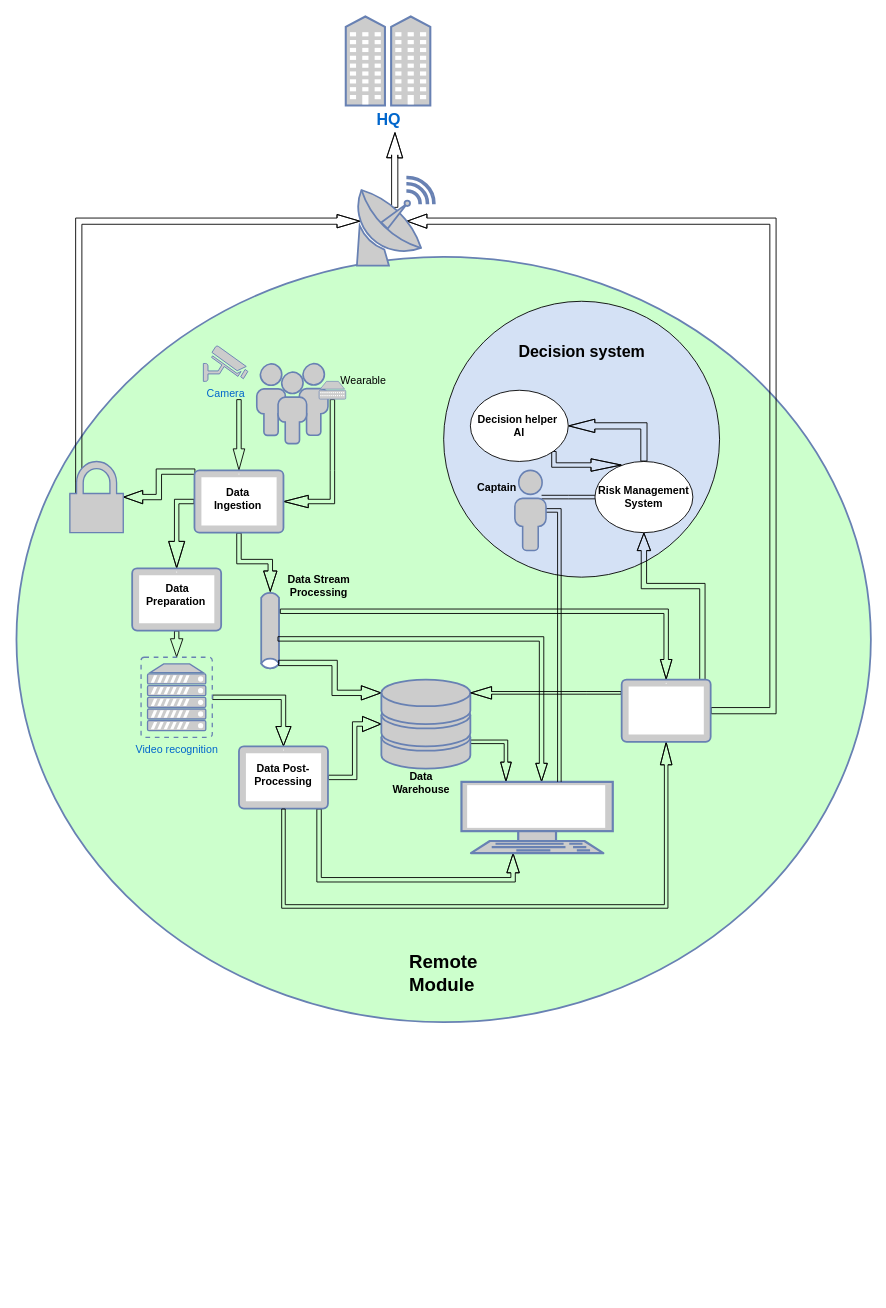
Some shapes in this 886 by 1308 pixel diagram are drawn without their labels. The shapes that lost their labels are listed below. From the top down, each one's box as (x1, y1, x2, y2) in pixels, then its label:
(255, 362, 328, 444): Crew
(69, 460, 124, 533): Encryption for audit
(620, 678, 711, 742): Risk detection & alerting
(460, 781, 613, 854): Dashboard
